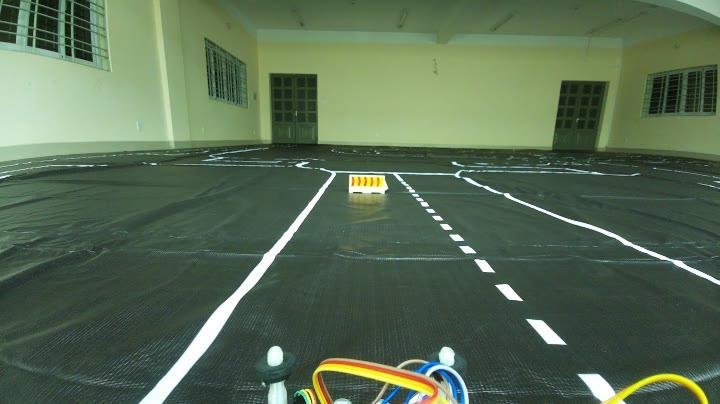roadblock: (344, 170, 394, 200)
